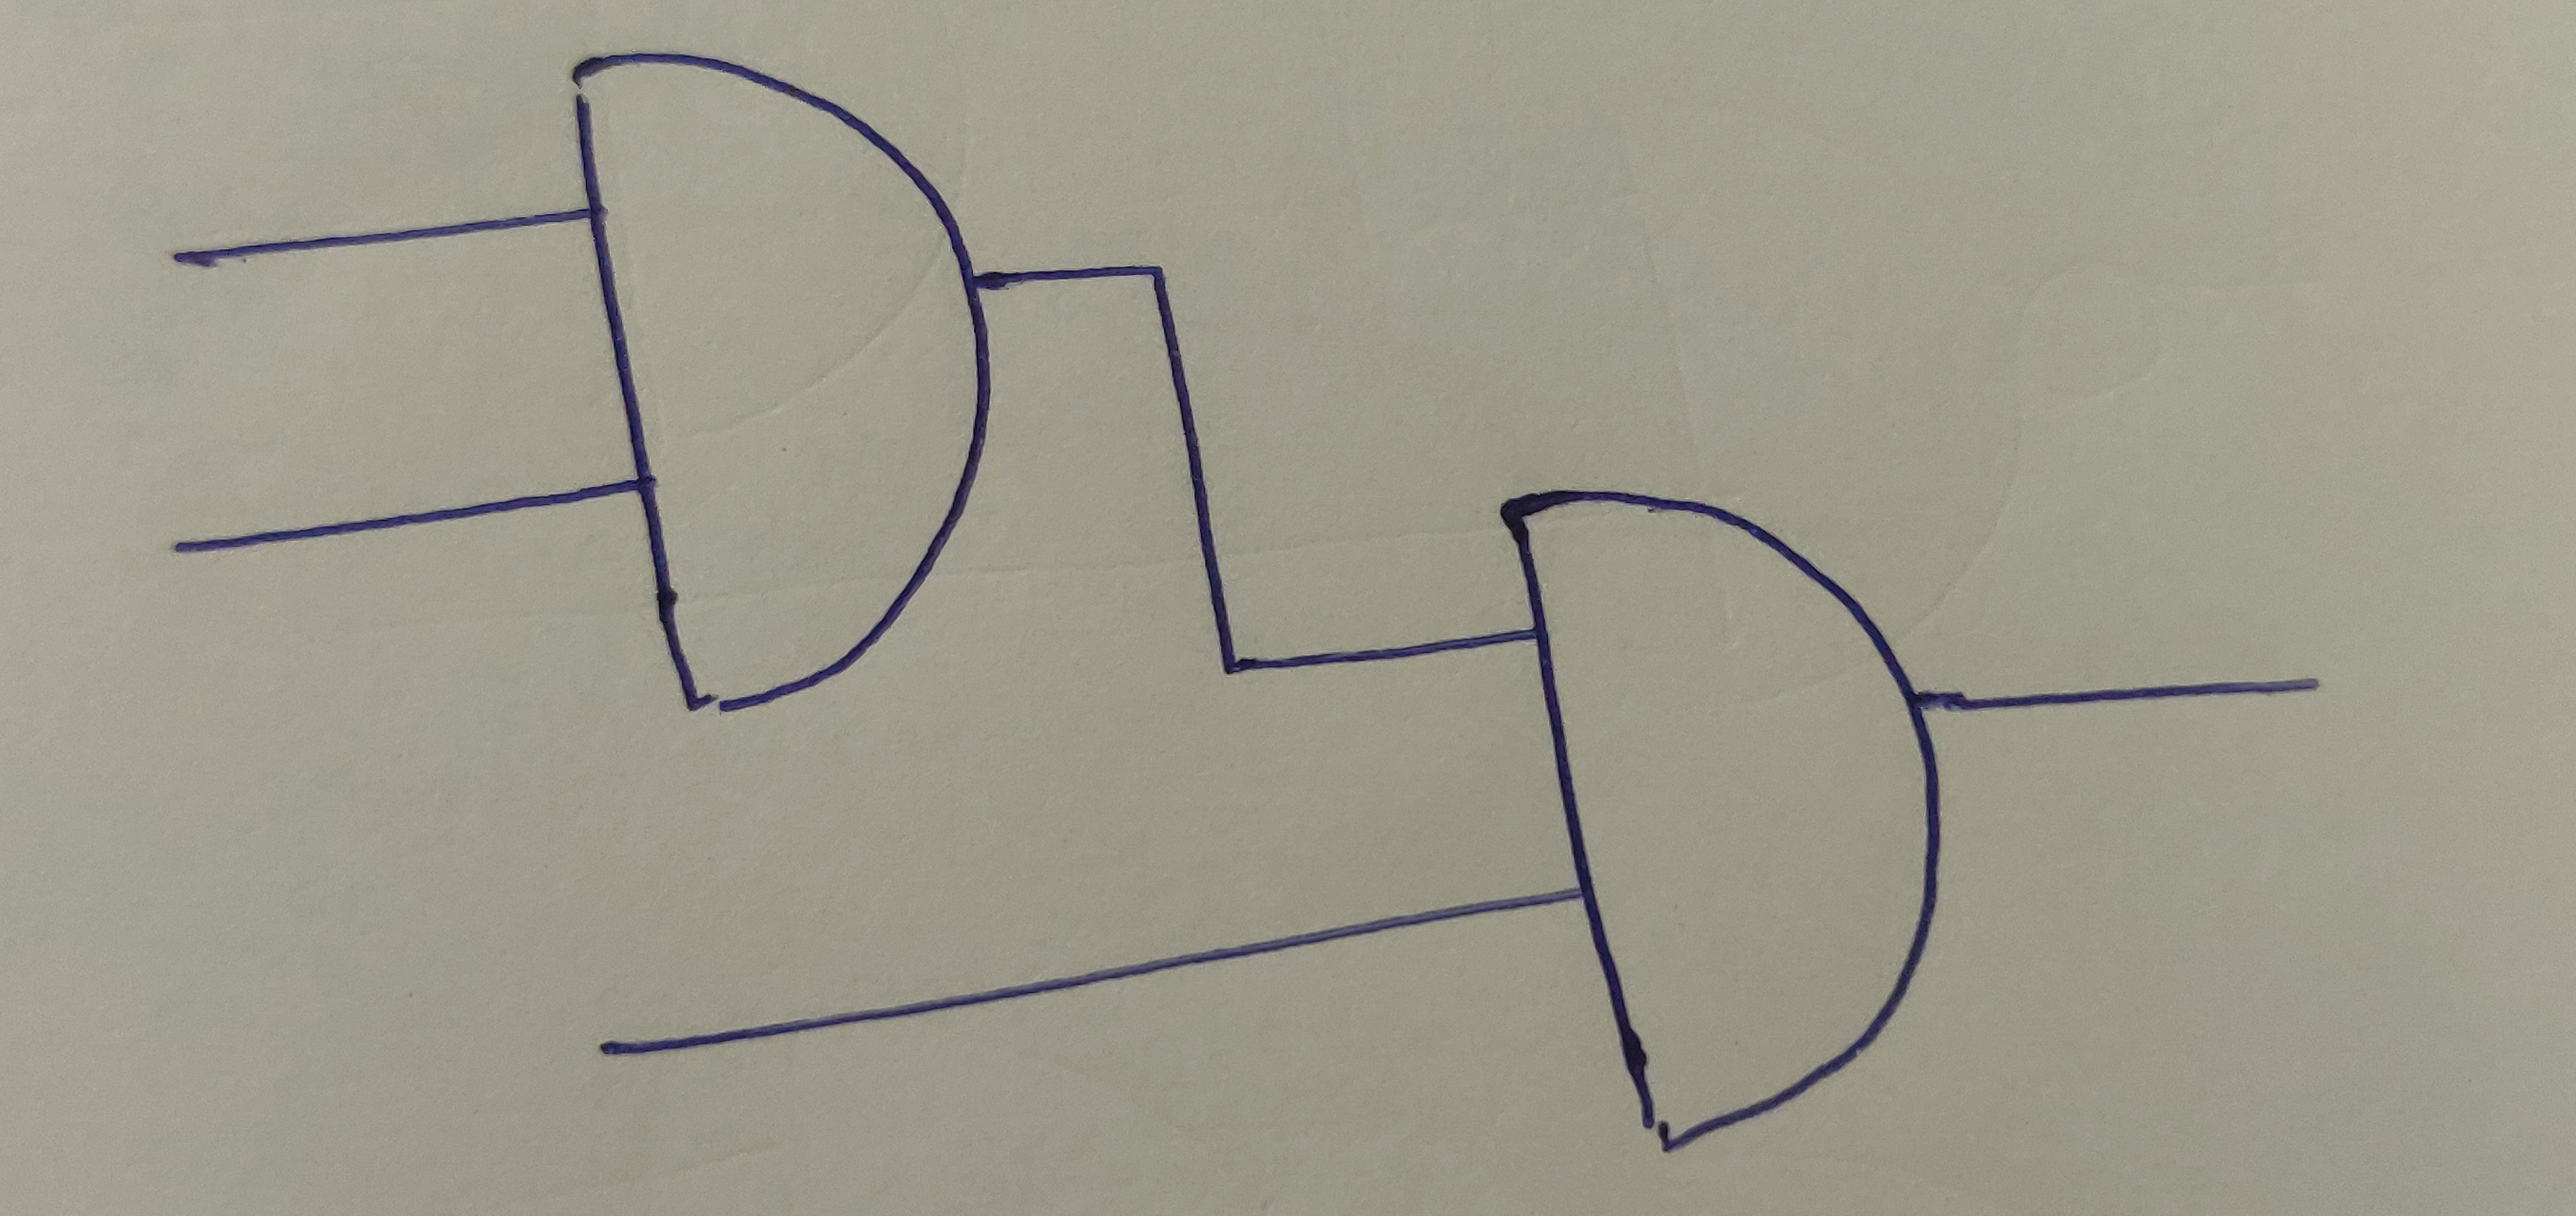and: (1502, 481, 1945, 1150), (559, 48, 1004, 708)
